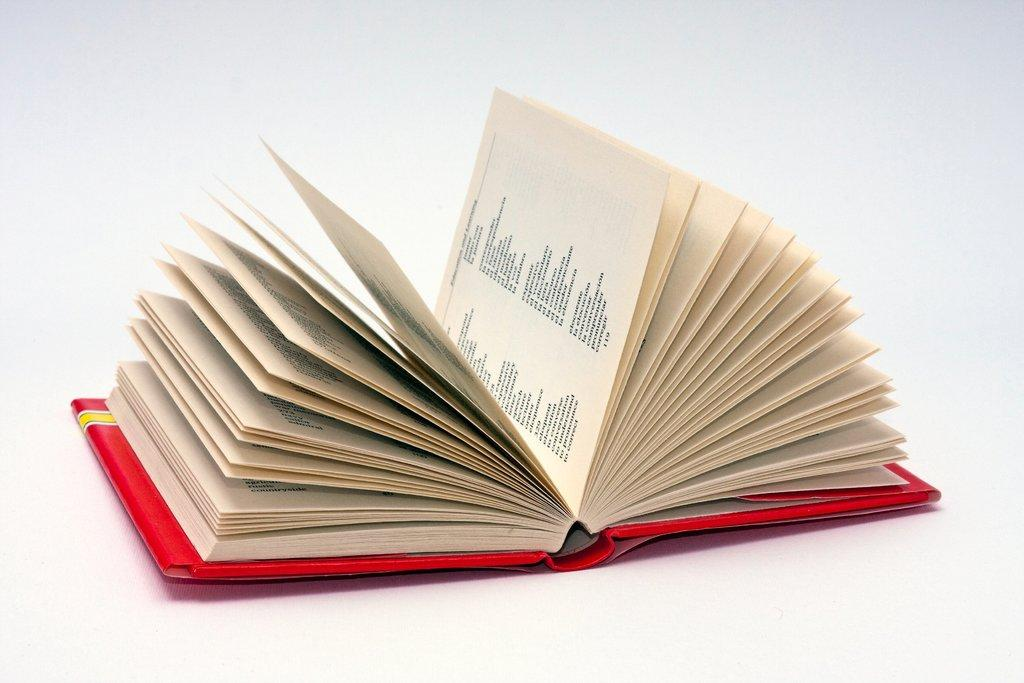book: (52, 83, 948, 587)
